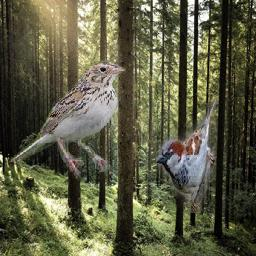Sparrow: (8, 59, 126, 179), (156, 99, 216, 214)
